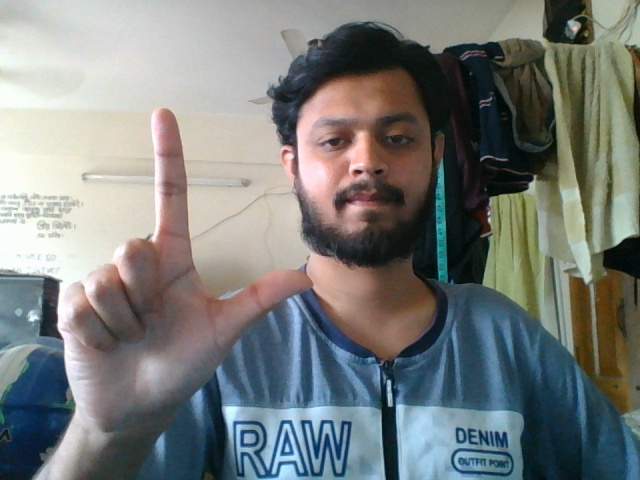la: (51, 103, 317, 445)
